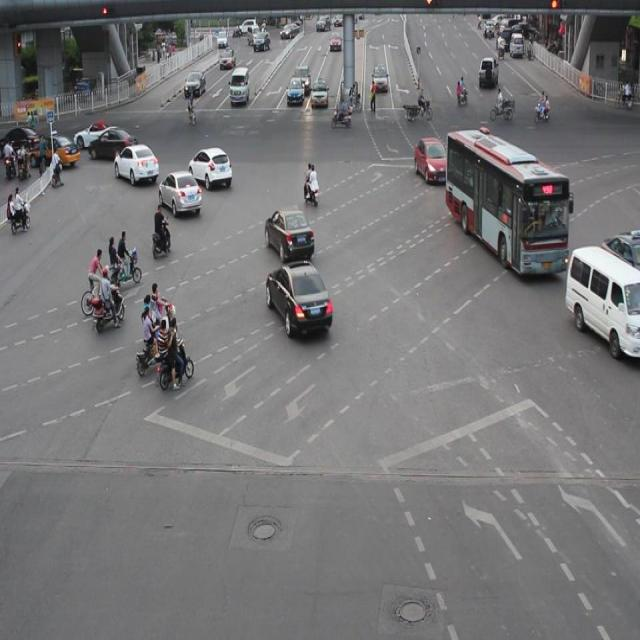car: (266, 258, 332, 336), (264, 206, 315, 261), (159, 168, 202, 216), (114, 142, 160, 184), (189, 146, 232, 188), (414, 136, 450, 184), (88, 125, 138, 159), (74, 119, 116, 148)
truck: (564, 244, 640, 358)
van: (445, 131, 568, 274)
